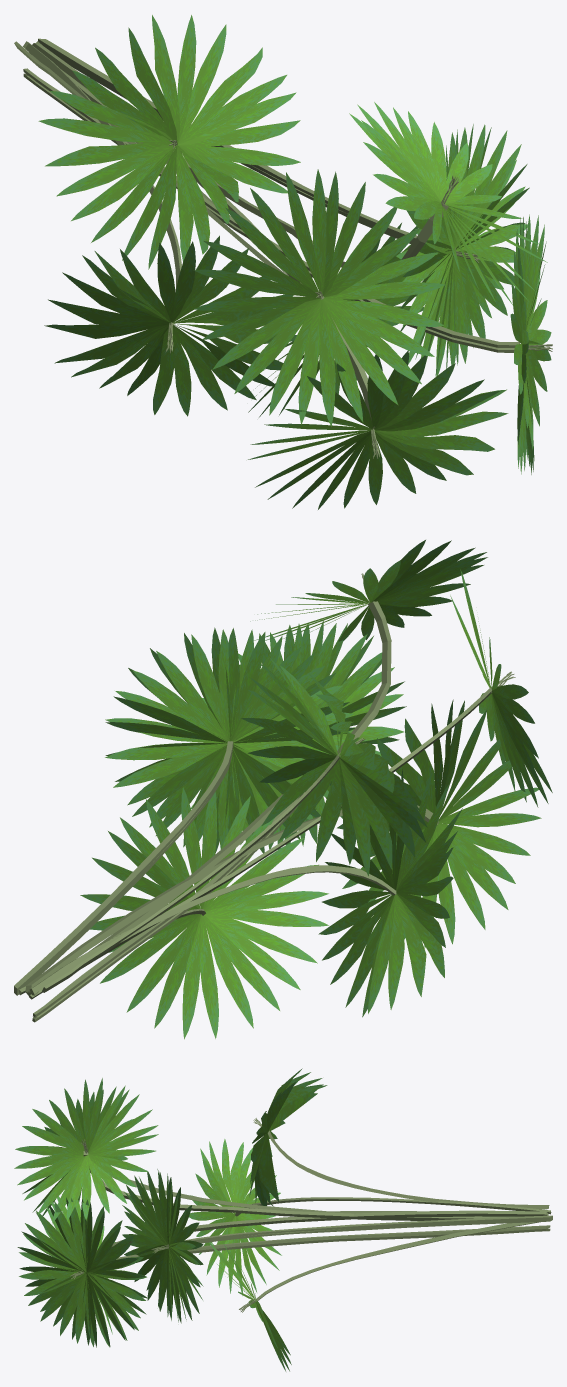
The model's file is Papyrus.fbx.
3 renders of one model, top to bottom at view 1: azimuth 30°, elevation 25°; view 2: azimuth 150°, elevation 25°; view 3: azimuth 270°, elevation 25°, orthographic. The views are drawn at different scales.
Visible parts, largest first — view 1: Cube.008; view 2: Cube.008; view 3: Cube.008.
Part boxes in pixels (x1,y1,x2,y2): Cube.008: [14, 15, 552, 509]; Cube.008: [14, 540, 552, 1039]; Cube.008: [14, 1068, 552, 1371].
Size of the model in its own units: 65.18 by 63.2 by 120.
Materials: 4 (3 with a texture image).
